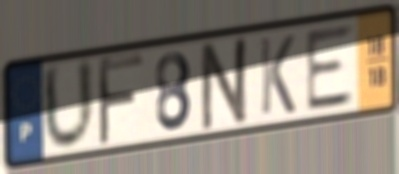8: (154, 49, 193, 133)
E: (303, 20, 357, 115)
F: (95, 51, 147, 150)
K: (257, 32, 298, 118)
N: (199, 32, 253, 134)
U: (40, 55, 98, 155)
